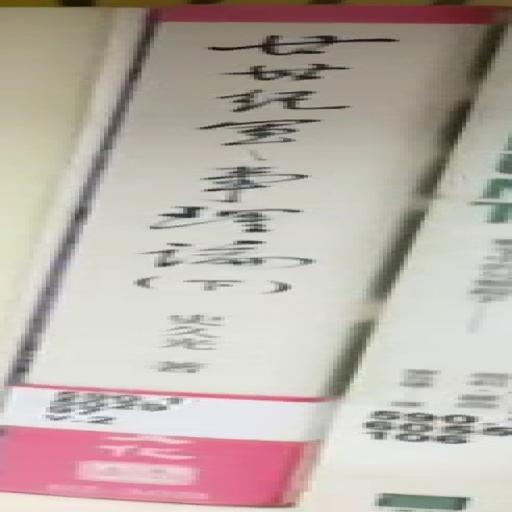book: (1, 1, 509, 512)
